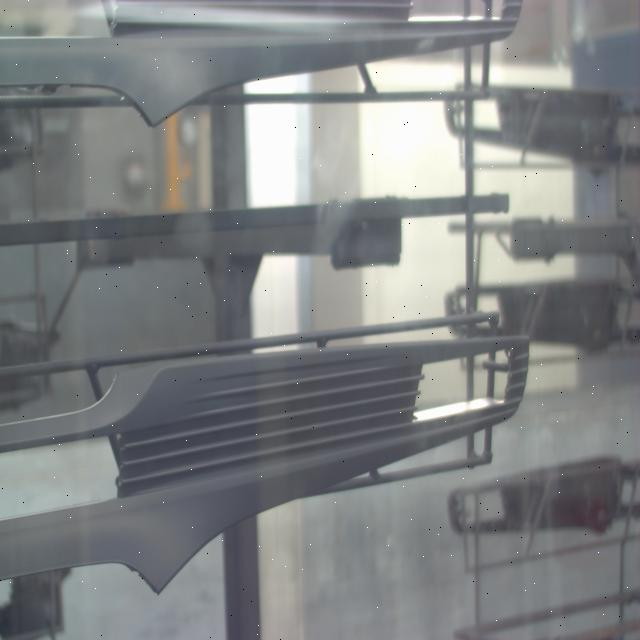Primered: (0, 334, 535, 594), (0, 4, 524, 131)
